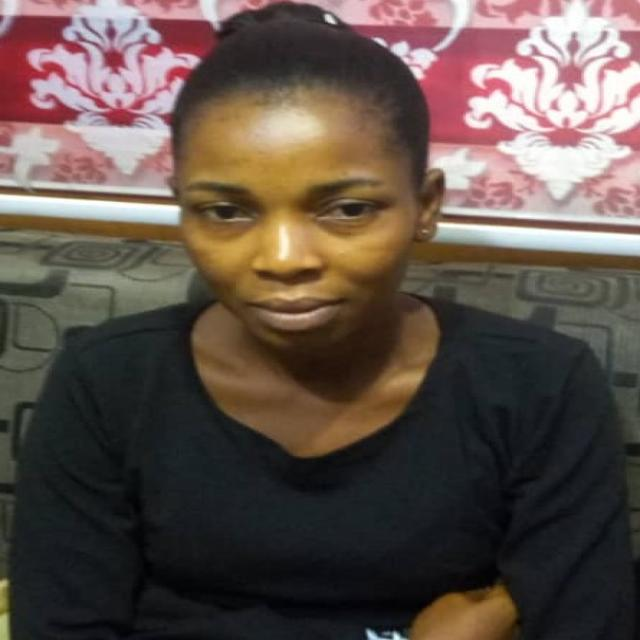sad: (160, 49, 458, 354)
